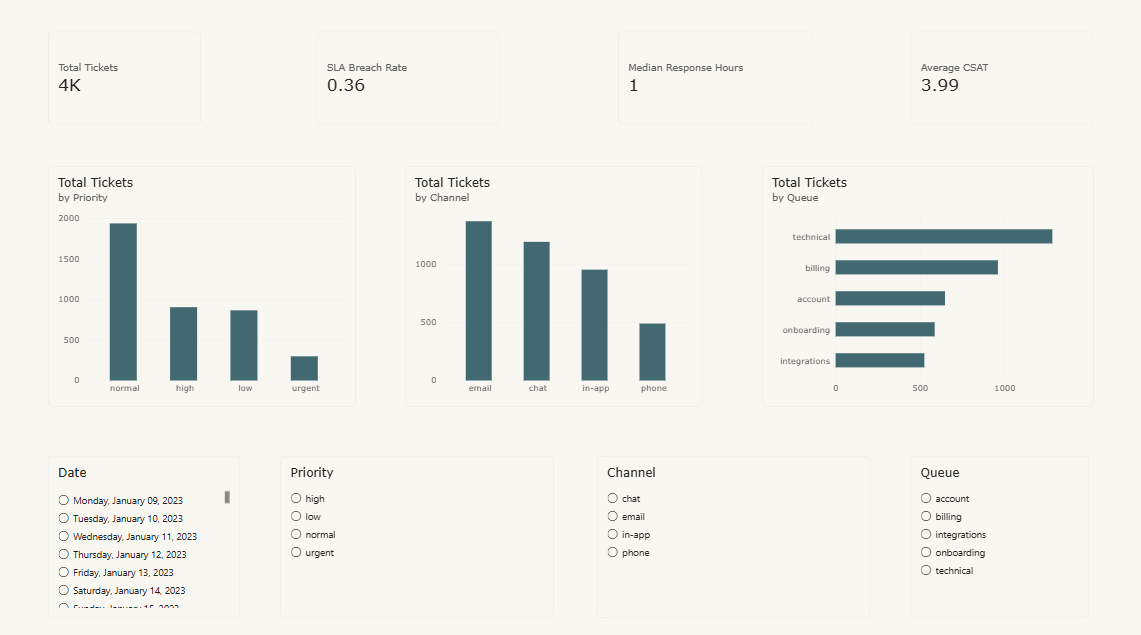

What the dashboard file says about the page in this screenshot:
{"tool":"powerbi","page":{"name":"Executive Dashboard","canvas":[1920,1080],"ordinal":0},"visuals":[{"type":"cardVisual","fields":{"Data":["FactTickets.Total Tickets"]},"box":[90,57.5,255,155],"z":0},{"type":"cardVisual","fields":{"Data":["FactTickets.SLA Breach Rate"]},"box":[537.5,57.5,305,155],"z":1000},{"type":"cardVisual","fields":{"Data":["FactTickets.Median Response Hours"]},"box":[1040,57.5,327.5,155],"z":2000},{"type":"cardVisual","fields":{"Data":["FactTickets.Average CSAT"]},"box":[1527.5,57.5,305,155],"z":3000},{"type":"clusteredColumnChart","fields":{"Category":["DimPriority.Priority"],"Y":["FactTickets.Total Tickets"]},"box":[90,282.5,512.5,400],"z":4000},{"type":"clusteredColumnChart","fields":{"Category":["DimChannel.Channel"],"Y":["FactTickets.Total Tickets"]},"box":[685,282.5,495,400],"z":5000},{"type":"listSlicer","fields":{"Values":["DimPriority.Priority"]},"box":[477.5,765,455,270],"z":6000},{"type":"listSlicer","fields":{"Values":["DimChannel.Channel"]},"box":[1005,765,455,270],"z":7000},{"type":"listSlicer","fields":{"Values":["DimDate.Date.Variation.Date Hierarchy.Year"]},"box":[90,765,320,270],"z":8000},{"type":"listSlicer","fields":{"Values":["DimQueue.Queue"]},"box":[1527.5,765,297.5,270],"z":9000},{"type":"barChart","fields":{"Category":["DimQueue.Queue"],"Y":["FactTickets.Total Tickets"]},"box":[1280,282.5,552.5,400],"z":10000}]}

Visuals, with their boxes in screenshot pixels (x1, y1, x2, y2), scaled from the page's 1920x1080 canvas onto the 1141x635 screenshot:
cardVisual - FactTickets.Total Tickets: [x1=53, y1=34, x2=205, y2=125]
cardVisual - FactTickets.SLA Breach Rate: [x1=319, y1=34, x2=501, y2=125]
cardVisual - FactTickets.Median Response Hours: [x1=618, y1=34, x2=813, y2=125]
cardVisual - FactTickets.Average CSAT: [x1=908, y1=34, x2=1089, y2=125]
clusteredColumnChart - DimPriority.Priority x FactTickets.Total Tickets: [x1=53, y1=166, x2=358, y2=401]
clusteredColumnChart - DimChannel.Channel x FactTickets.Total Tickets: [x1=407, y1=166, x2=701, y2=401]
listSlicer - DimPriority.Priority: [x1=284, y1=450, x2=554, y2=609]
listSlicer - DimChannel.Channel: [x1=597, y1=450, x2=868, y2=609]
listSlicer - DimDate.Date.Variation.Date Hierarchy.Year: [x1=53, y1=450, x2=244, y2=609]
listSlicer - DimQueue.Queue: [x1=908, y1=450, x2=1085, y2=609]
barChart - DimQueue.Queue x FactTickets.Total Tickets: [x1=761, y1=166, x2=1089, y2=401]
